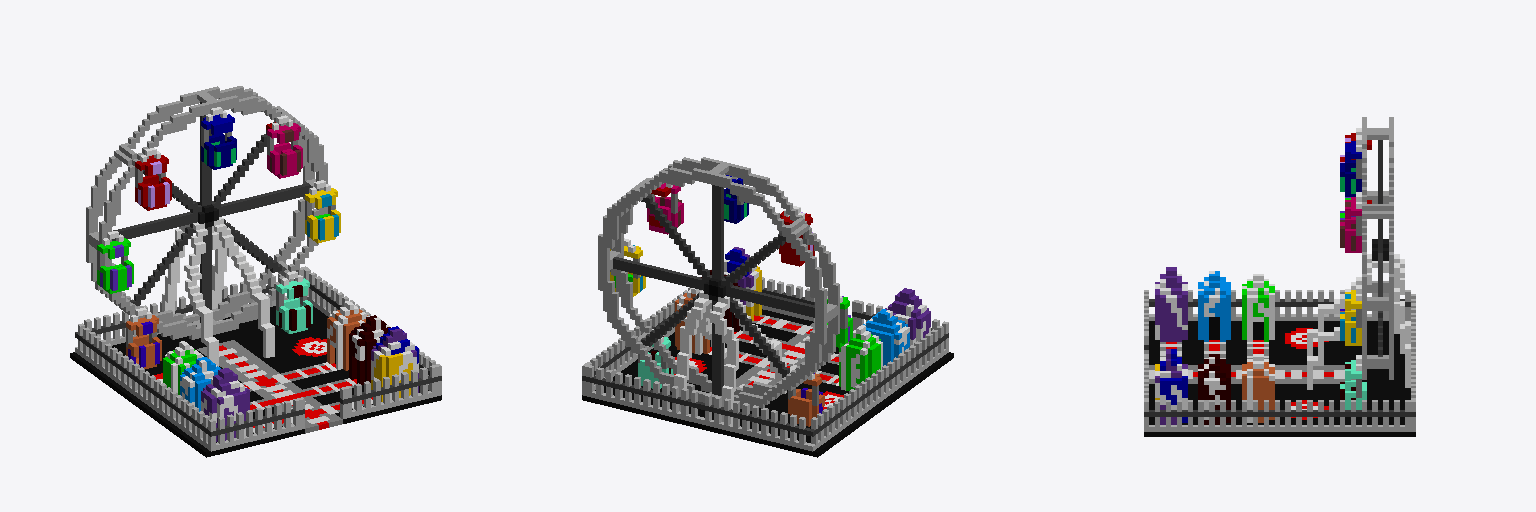
3 renders of one model, left to right at view 1: azimuth 30°, elevation 25°; view 2: azimuth 150°, elevation 25°; view 3: azimuth 270°, elevation 25°, orthographic.
Parts seen in each view (by area): view 1: object 1; view 2: object 1; view 3: object 1.
Part boxes in pixels (bbox=[...]): object 1: bbox=[70, 86, 441, 457]; object 1: bbox=[582, 157, 953, 457]; object 1: bbox=[1144, 117, 1415, 436].
Bounding box in the file's own units: 5 × 5 × 5.
Materials: 1 (1 with a texture image).